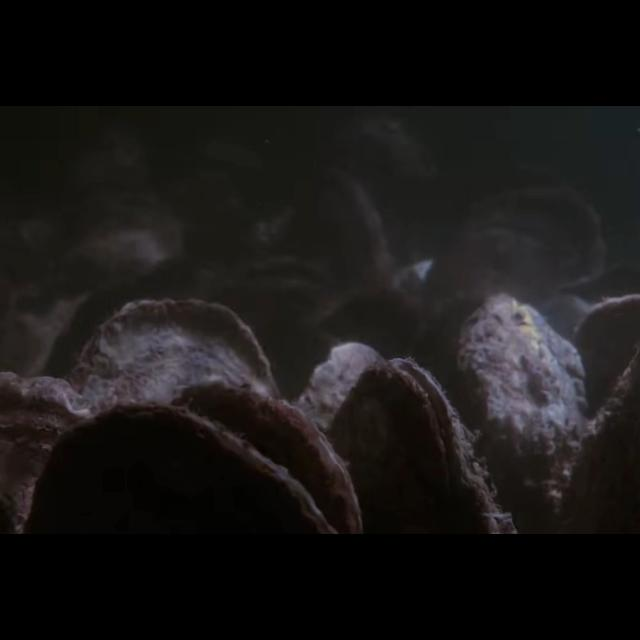Oyster-Closed: (67, 299, 280, 535), (25, 404, 338, 534), (451, 291, 592, 535), (170, 379, 362, 535), (422, 186, 608, 334), (296, 343, 388, 534), (0, 372, 100, 534), (286, 170, 399, 300), (63, 194, 187, 300), (572, 294, 640, 450)
Oyster-Open: (324, 358, 516, 534), (212, 251, 340, 331)
